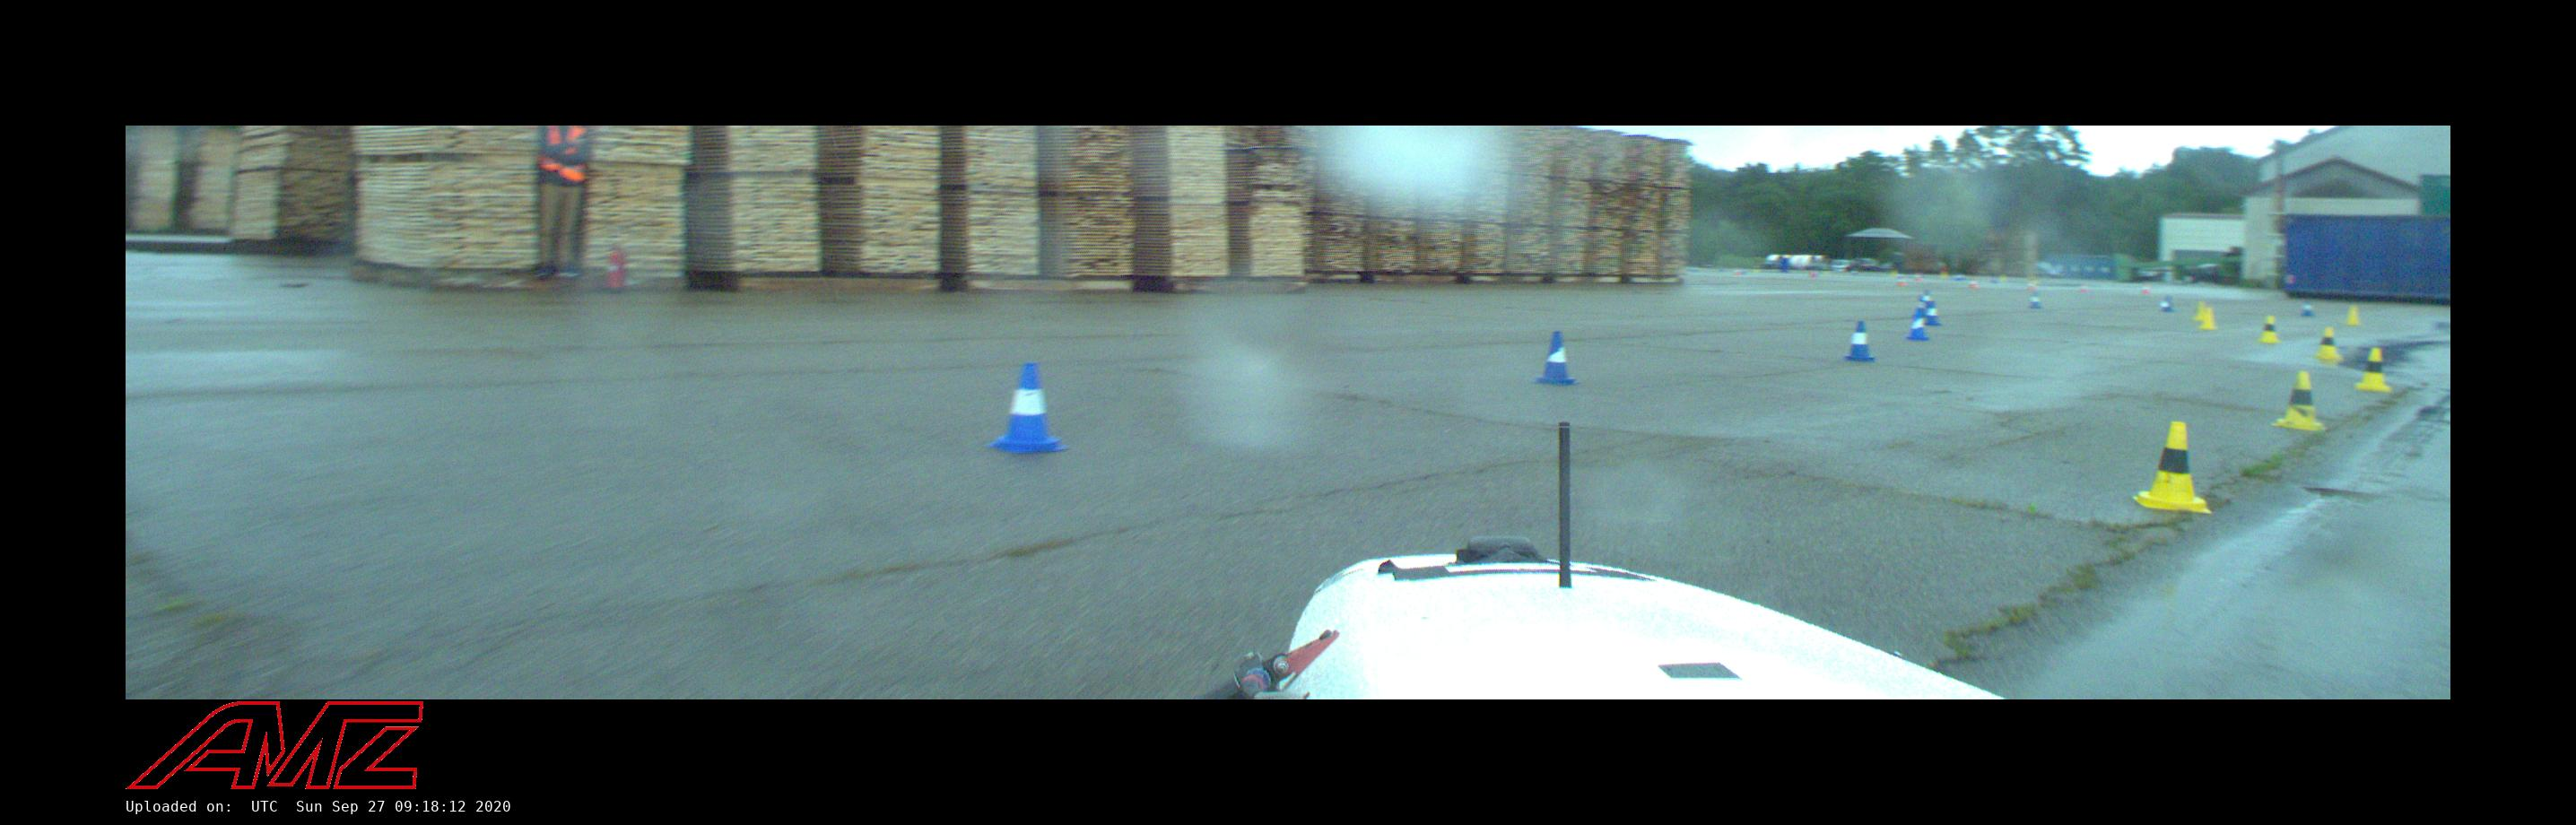blue_cone: (989, 363, 1069, 454), (1536, 332, 1579, 385), (1843, 322, 1875, 360), (1907, 311, 1929, 340), (1925, 301, 1940, 325)
yellow_cone: (2132, 421, 2210, 513), (2270, 371, 2325, 431), (2356, 348, 2390, 391), (2313, 329, 2343, 358), (2257, 316, 2280, 342), (2200, 309, 2218, 329)
